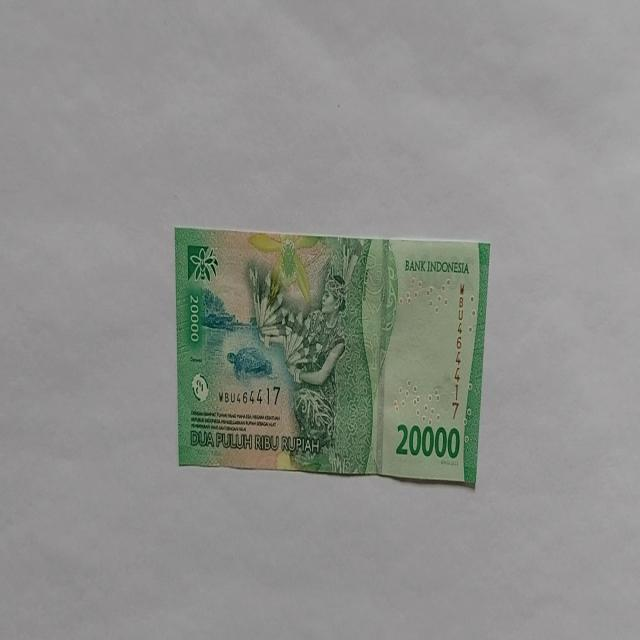dua puluh ribu rupiah: (174, 228, 490, 488), (246, 234, 398, 476)
